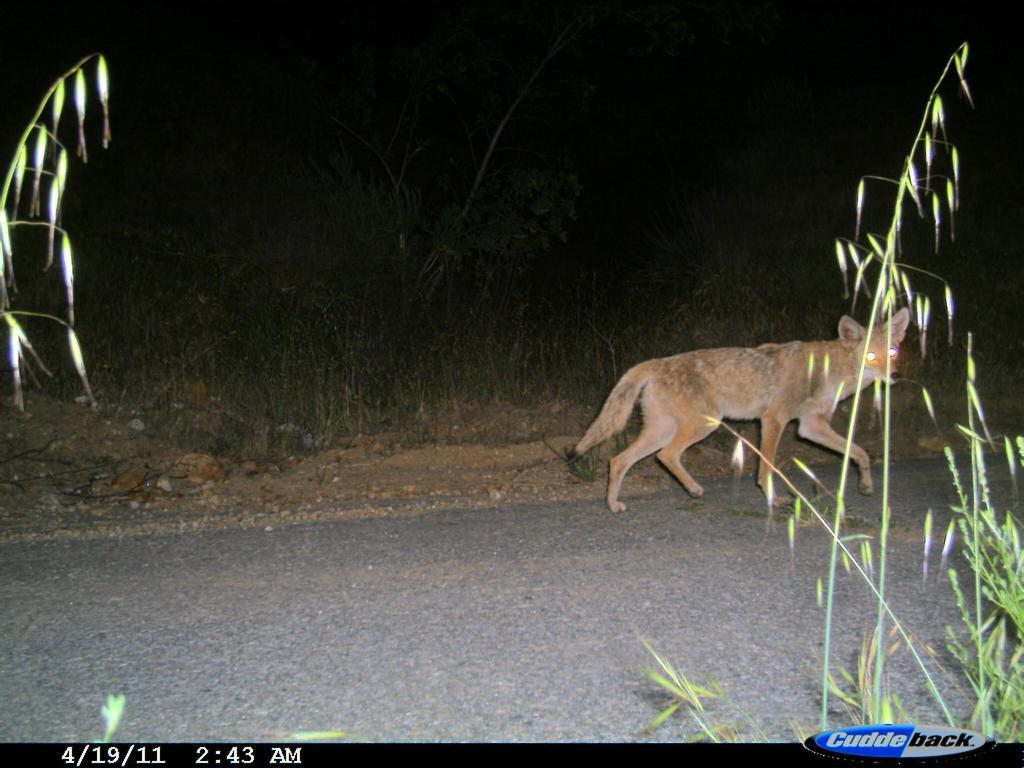coyote: (569, 305, 916, 514)
